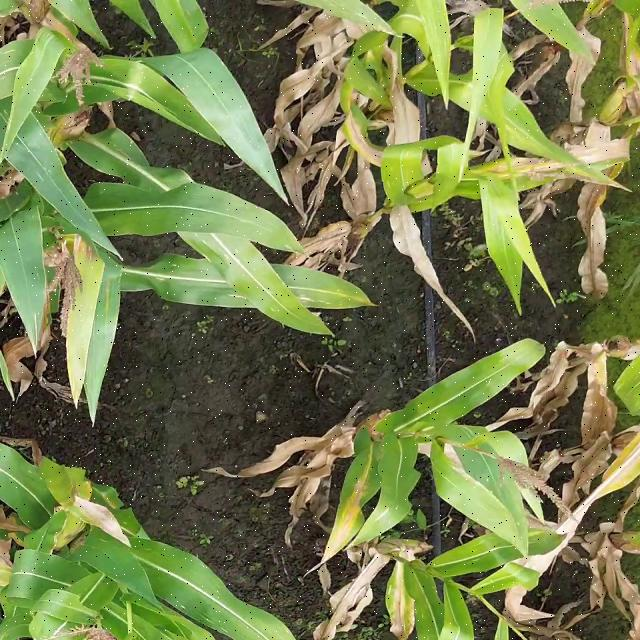gray-leaf-spot: (0, 149, 100, 320), (200, 238, 366, 318), (448, 527, 559, 572)
northern-leaf-blight: (318, 428, 403, 555), (445, 135, 624, 190)
